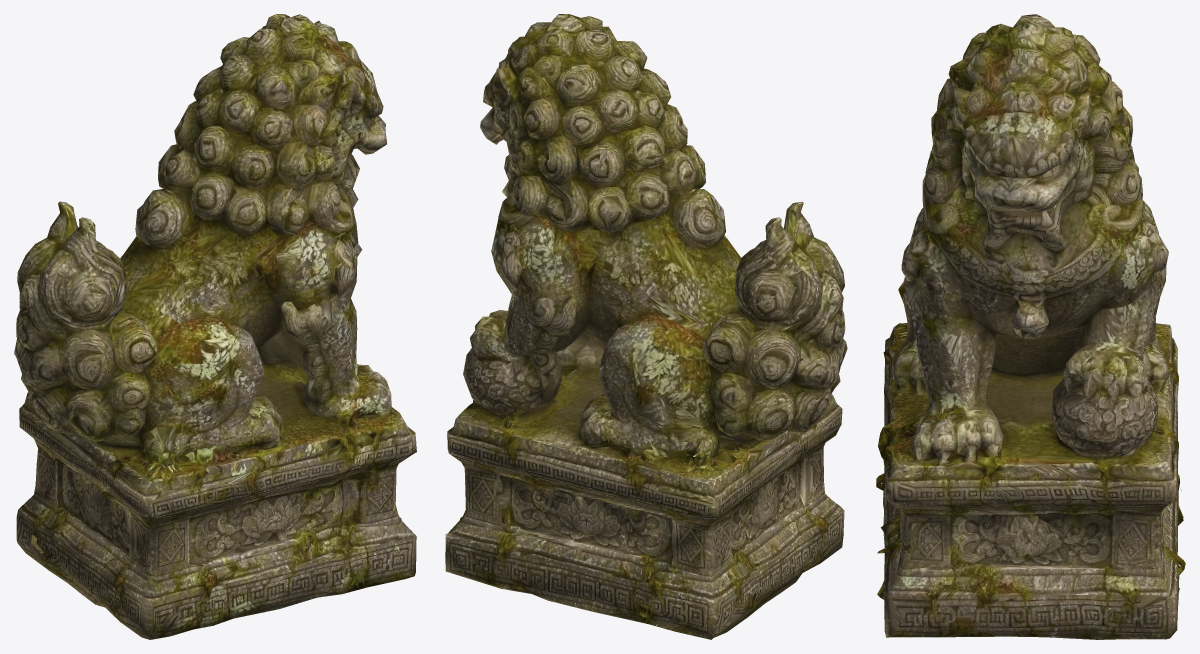
The model's file is estatua.glb.
3 renders of one model, left to right at view 1: azimuth 30°, elevation 25°; view 2: azimuth 150°, elevation 25°; view 3: azimuth 270°, elevation 25°, orthographic. The views are drawn at different scales.
Visible parts, largest first — view 1: estatua; view 2: estatua; view 3: estatua.
Part boxes in pixels (box(x1,y1,x2,y2)): estatua: box(14, 14, 416, 639); estatua: box(445, 14, 847, 639); estatua: box(876, 14, 1185, 639).
Size of the model in its own units: 1.57 by 2.2 by 1.05.
1 material, 1 textured.
